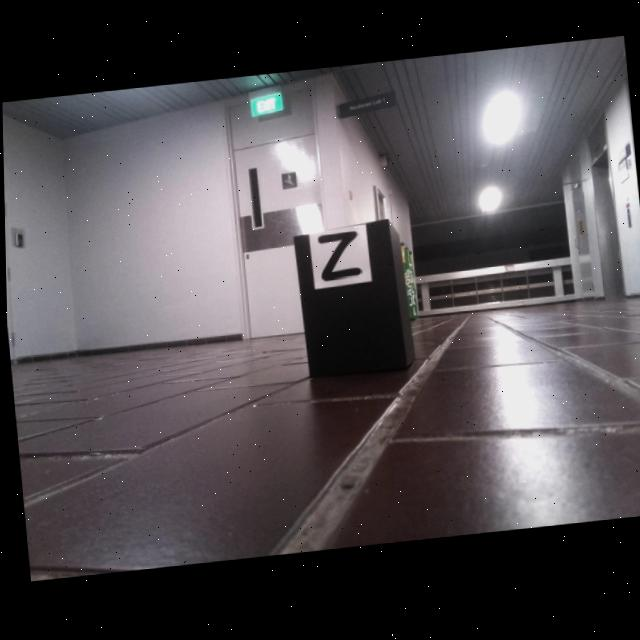Z: (318, 234, 360, 282)
